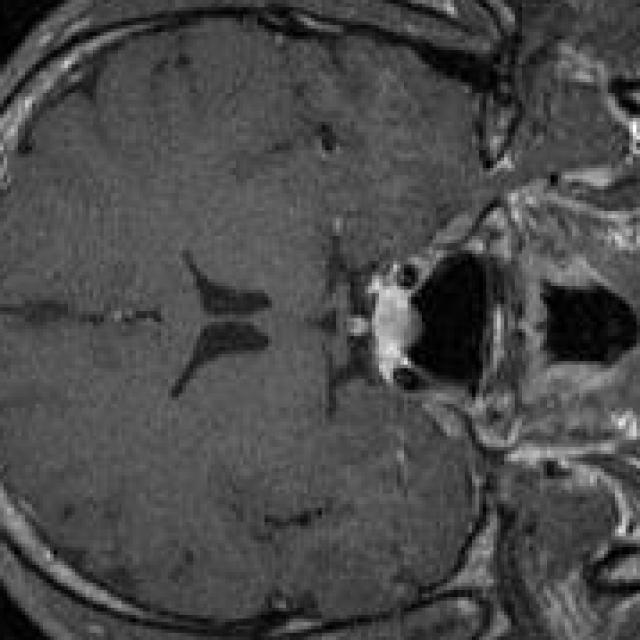pituitary: (365, 261, 425, 386)
